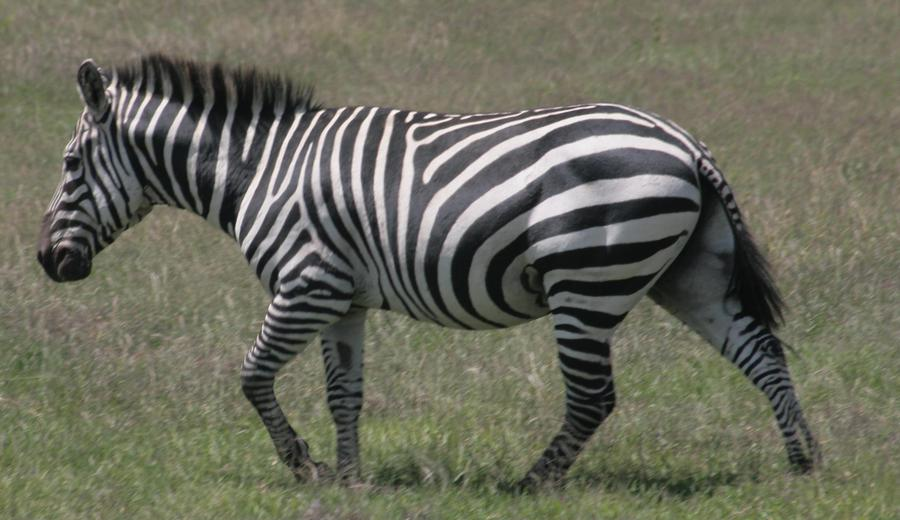zebra_plains: (241, 92, 665, 347)
